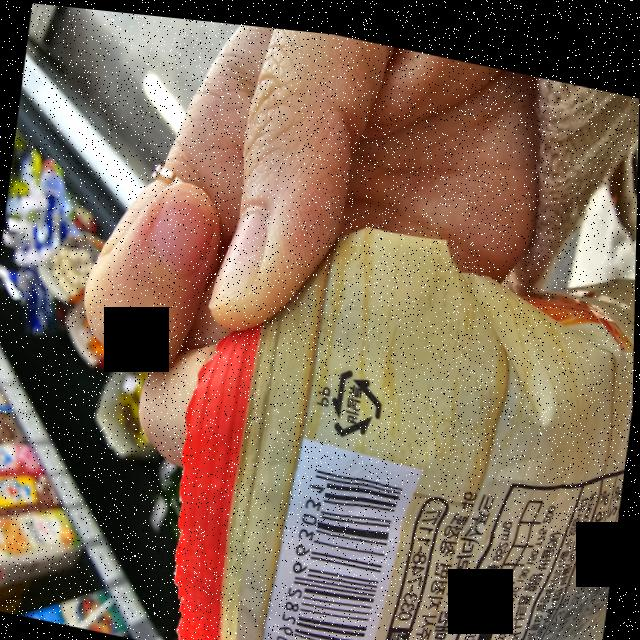Vinyl: (326, 355, 391, 440)
